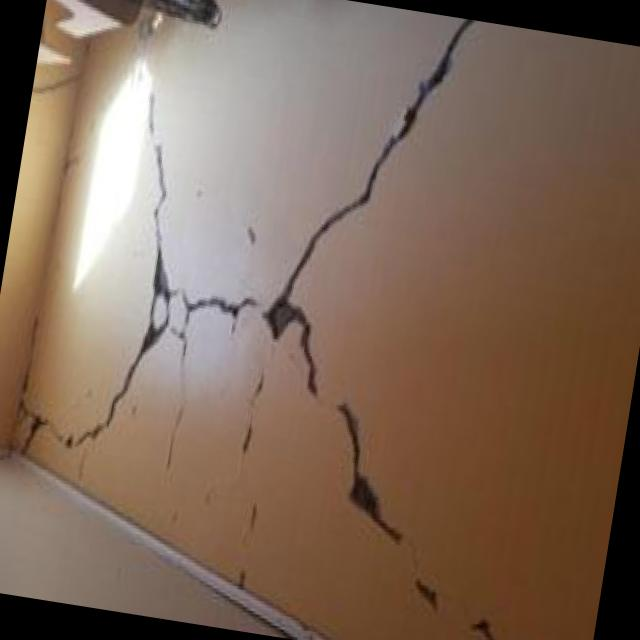crack: (263, 23, 468, 400), (19, 93, 173, 455), (332, 402, 408, 550), (188, 295, 237, 320), (411, 578, 434, 618)
